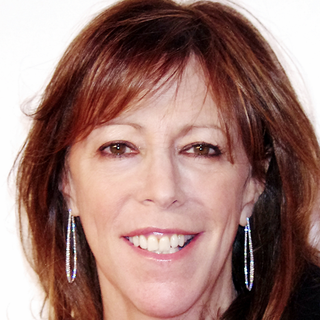eye: (90, 139, 140, 162), (179, 138, 222, 162)
